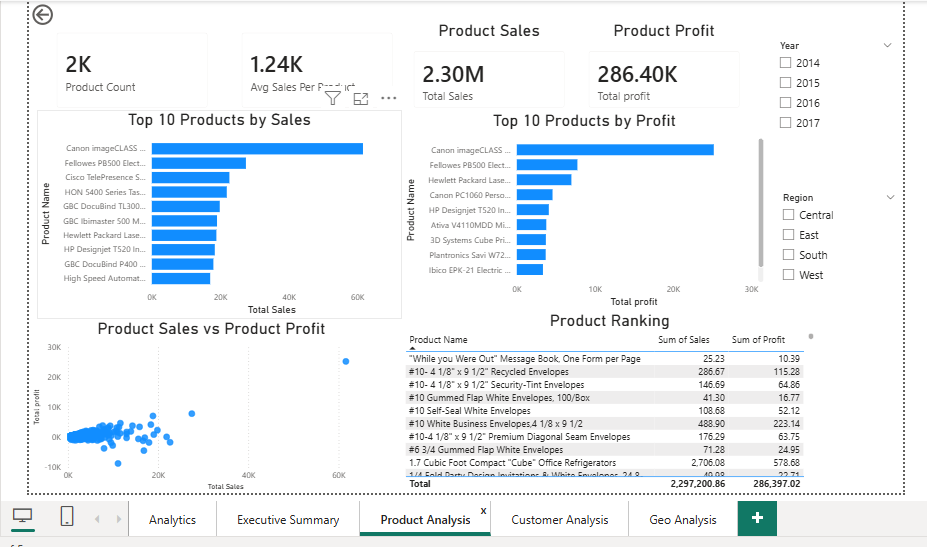

This screenshot's page, from the dashboard's own definition file:
{"tool":"powerbi","page":{"name":"Product Analysis","canvas":[1280,720],"ordinal":2},"visuals":[{"type":"cardVisual","title":"Monthly Sales Trend","fields":{"Data":["Calendar.Product Count"]},"box":[23.5,28.6,255.3,144.5],"z":0},{"type":"cardVisual","title":"Monthly Sales Trend","fields":{"Data":["Calendar.Avg Sales Per Product"]},"box":[294,28.6,255.3,144.5],"z":1000},{"type":"cardVisual","title":"Product Sales","fields":{"Data":["powerBiNew.Total Sales"]},"box":[545.9,28.6,255.3,144.5],"z":2000},{"type":"cardVisual","title":"Product Profit","fields":{"Data":["powerBiNew.Total profit"]},"box":[801.3,28.6,255.3,144.5],"z":3000},{"type":"barChart","title":"Top 10 Products by Sales","fields":{"Y":["powerBiNew.Total Sales"],"Category":["powerBiNew.Product Name"]},"box":[11.8,159.6,534.2,305.7],"z":4000},{"type":"barChart","title":"Top 10 Products by Profit","fields":{"Category":["powerBiNew.Product Name"],"Y":["powerBiNew.Total profit"]},"box":[545.9,161.3,534.2,292.3],"z":5000},{"type":"scatterChart","title":"Product Sales vs Product Profit","fields":{"Y":["powerBiNew.Total profit"],"Category":["powerBiNew.Product Name"],"X":["powerBiNew.Total Sales"]},"box":[0,465.3,534.2,255.3],"z":6000},{"type":"actionButton","box":[0,0,100,40],"z":7000},{"type":"tableEx","title":"Product Ranking","fields":{"Values":["powerBiNew.Product Name","Sum(powerBiNew.Sales)","Sum(powerBiNew.Profit)"]},"box":[545.9,453.5,608.1,267.1],"z":8000},{"type":"slicer","fields":{"Values":["Calendar.Year"]},"box":[1085.1,52.1,189.8,210],"z":9000},{"type":"slicer","fields":{"Values":["powerBiNew.Region"]},"box":[1090.2,275.5,189.8,178.1],"z":10000}]}

Visuals, with their boxes on the page's 1280x720 design canvas (x1, y1, x2, y2). These are canvas units, not pixel positions in the 927x547 screenshot, which may show the page scaled, cropped or inside an application window:
"Monthly Sales Trend" cardVisual: select_region(24, 29, 279, 173)
"Monthly Sales Trend" cardVisual: select_region(294, 29, 549, 173)
"Product Sales" cardVisual: select_region(546, 29, 801, 173)
"Product Profit" cardVisual: select_region(801, 29, 1057, 173)
"Top 10 Products by Sales" barChart: select_region(12, 160, 546, 465)
"Top 10 Products by Profit" barChart: select_region(546, 161, 1080, 454)
"Product Sales vs Product Profit" scatterChart: select_region(0, 465, 534, 721)
actionButton: select_region(0, 0, 100, 40)
"Product Ranking" tableEx: select_region(546, 454, 1154, 721)
slicer - Calendar.Year: select_region(1085, 52, 1275, 262)
slicer - powerBiNew.Region: select_region(1090, 276, 1280, 454)
